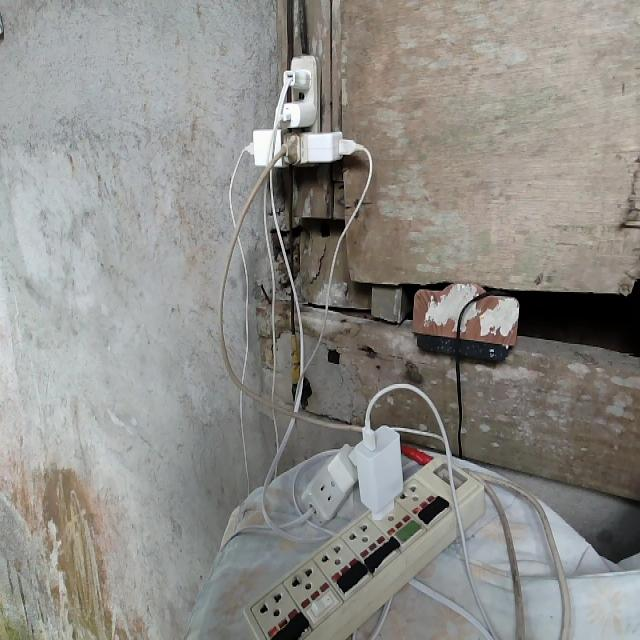-: (244, 52, 359, 167)
